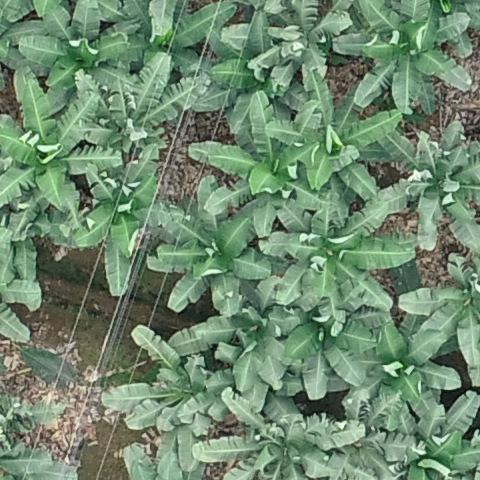Banana-plant: (99, 319, 263, 474), (187, 92, 336, 241), (48, 155, 198, 299), (259, 187, 417, 316), (266, 65, 404, 198), (144, 177, 273, 319), (0, 79, 127, 220), (73, 52, 210, 179), (188, 383, 360, 480), (331, 0, 474, 116), (256, 286, 388, 402), (162, 292, 308, 393), (374, 119, 480, 258), (99, 0, 240, 89), (395, 249, 480, 394), (222, 0, 353, 92), (20, 0, 139, 98), (362, 400, 466, 480)
